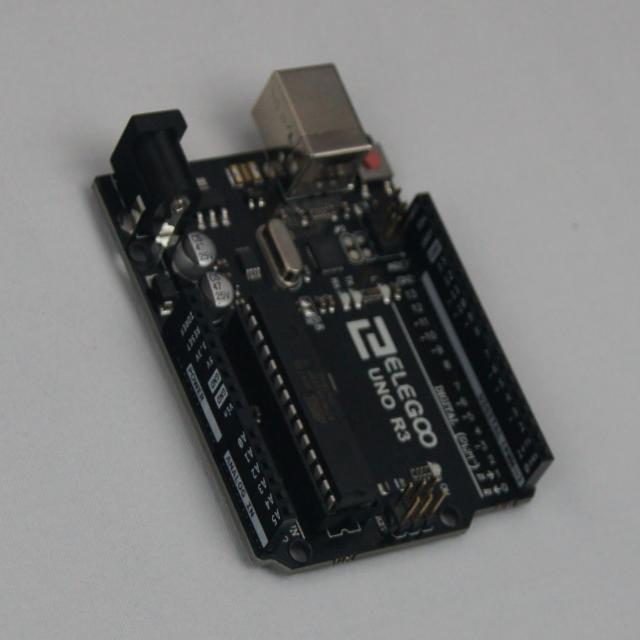Arduino Uno -Black-: (97, 65, 553, 570)
